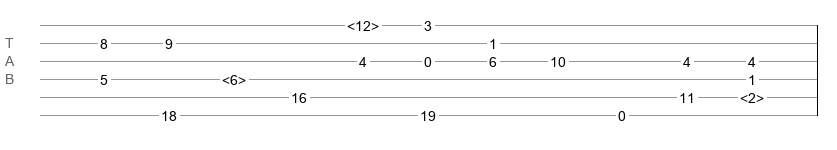0: (424, 54, 432, 64), (618, 108, 626, 118)
1: (489, 36, 497, 46), (748, 72, 756, 82)
10: (550, 54, 566, 64)
11: (679, 90, 695, 100)
16: (291, 90, 307, 100)
18: (161, 108, 177, 118)
19: (420, 108, 436, 118)
3: (424, 18, 432, 28)
4: (359, 54, 367, 64), (683, 54, 691, 64), (748, 54, 756, 64)
5: (100, 72, 108, 82)
6: (489, 54, 497, 64)
8: (100, 36, 108, 46)
9: (165, 36, 173, 46)
harmonic: (347, 18, 379, 28), (222, 72, 246, 82), (740, 90, 764, 100)
